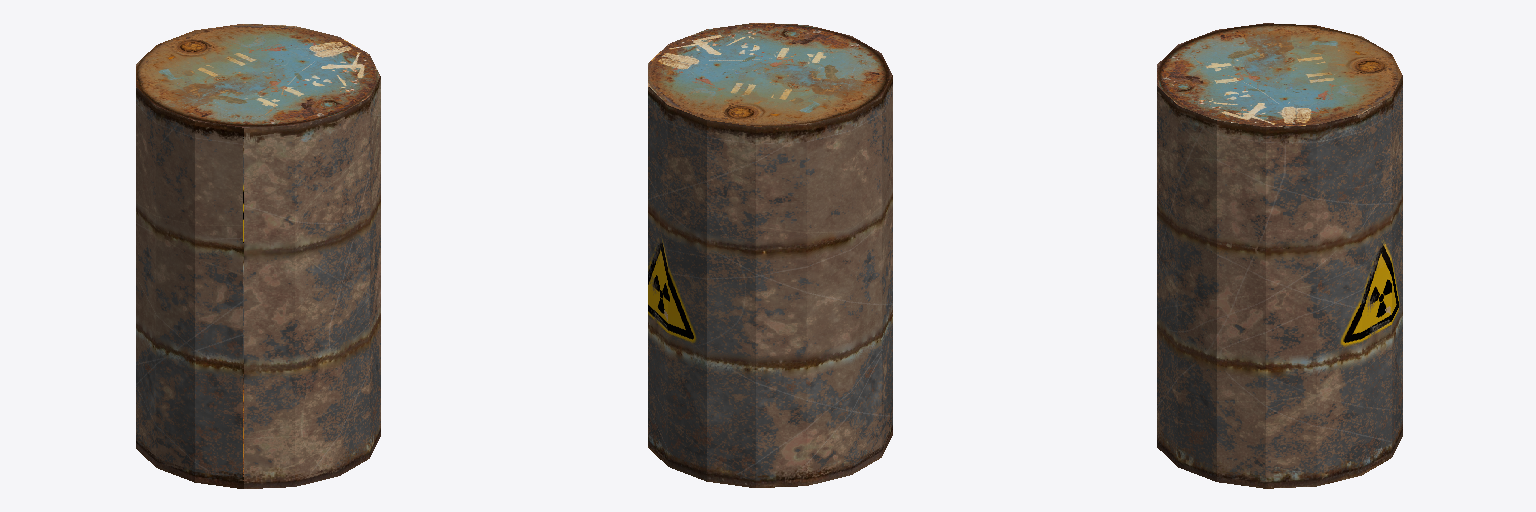
The picture shows the model from 3 angles: view 1: azimuth 30°, elevation 25°; view 2: azimuth 150°, elevation 25°; view 3: azimuth 270°, elevation 25°; orthographic projection.
Visible parts, largest first — view 1: Cylinder; view 2: Cylinder; view 3: Cylinder.
Boxes of the visible parts, x1,y1,x2,y2 form: Cylinder: [136, 24, 380, 488]; Cylinder: [648, 23, 892, 487]; Cylinder: [1157, 23, 1402, 488].
Size of the model in its own units: 1.17 by 1.9 by 1.16.
Materials: 1 (1 with a texture image).